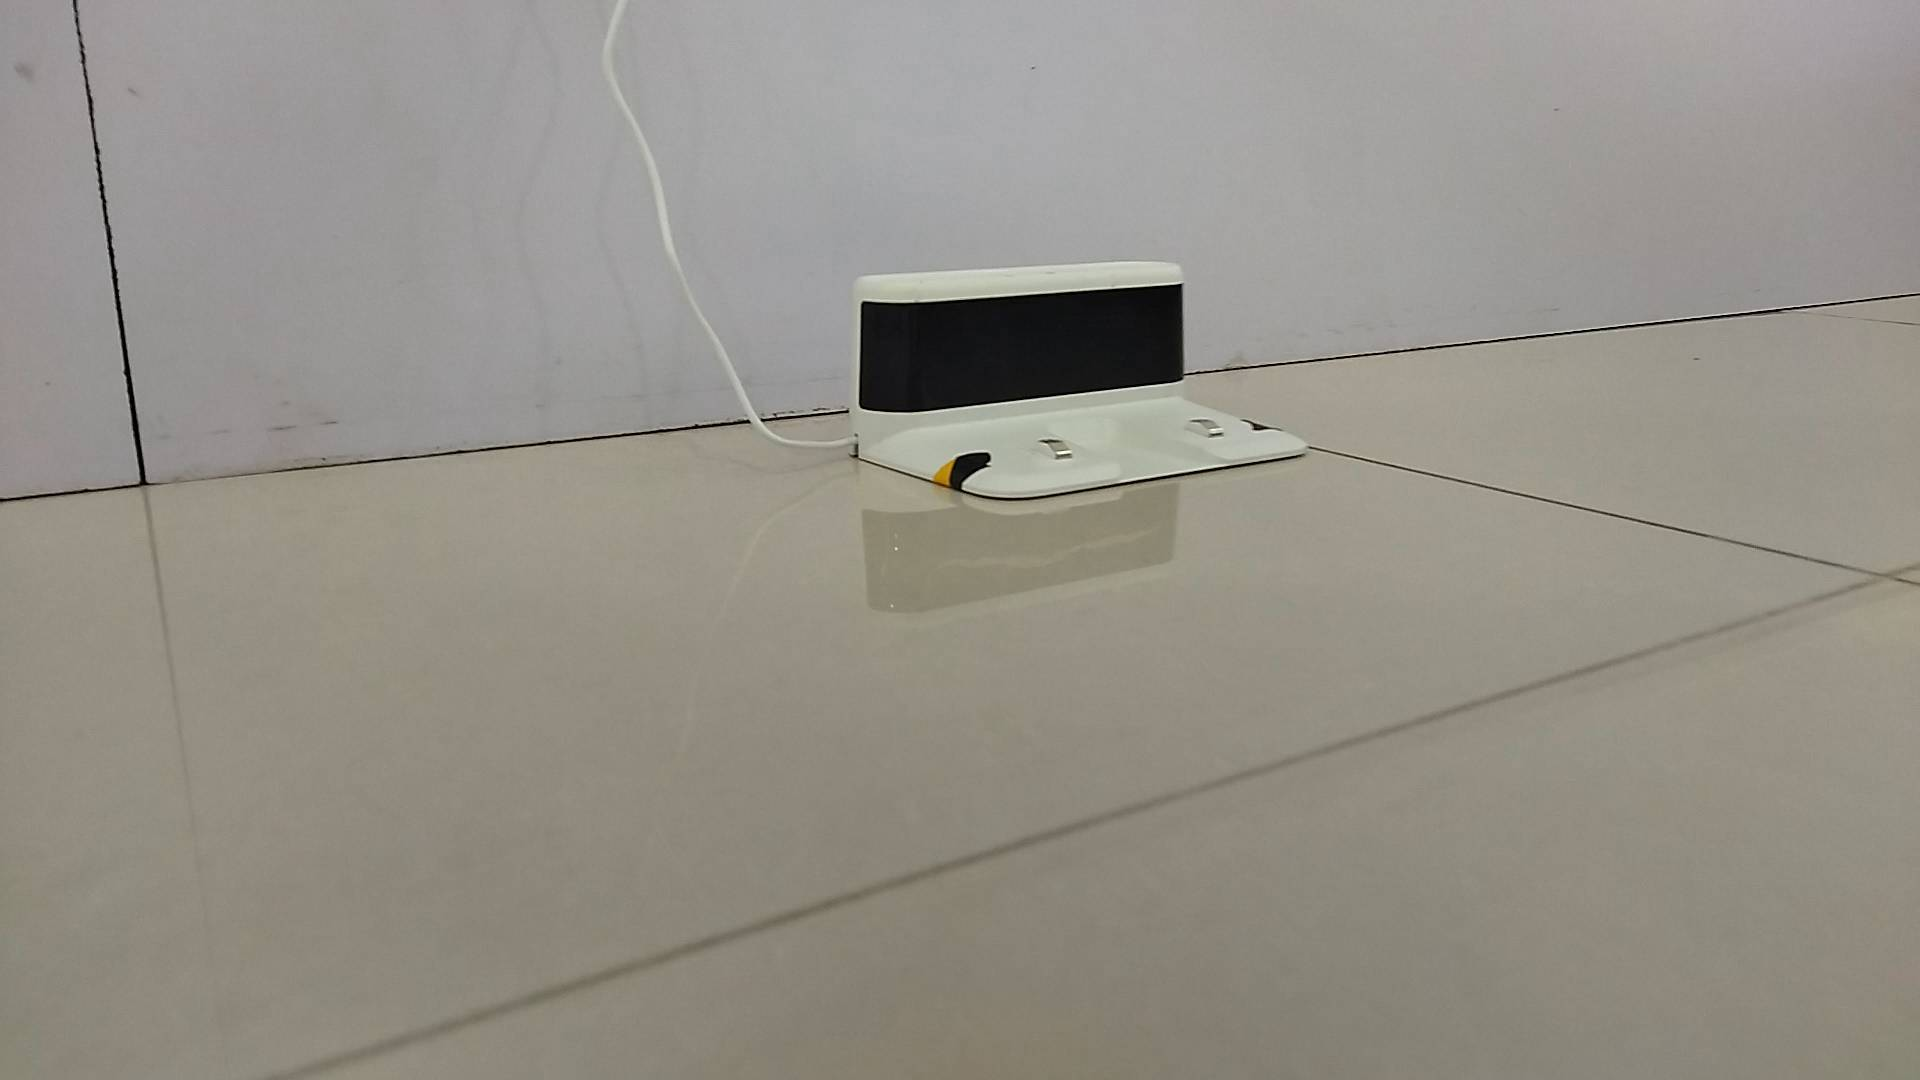recharge seat: (847, 260, 1309, 498)
